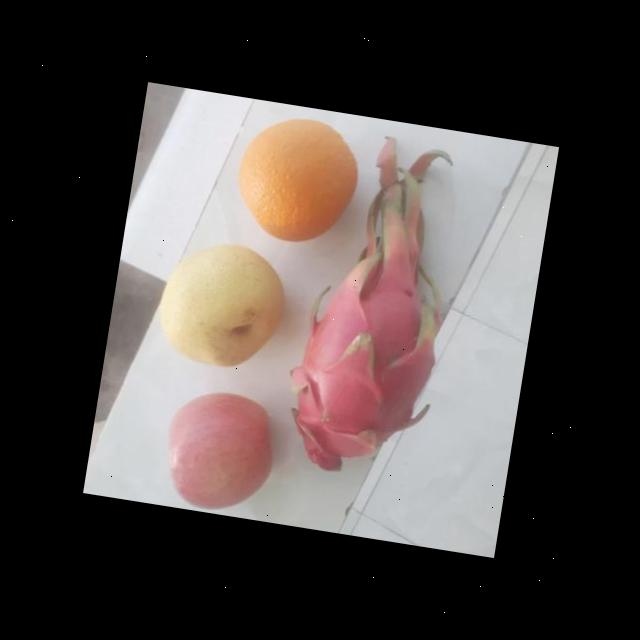apple: (153, 382, 280, 520)
orange: (226, 102, 364, 255)
pear: (152, 232, 292, 382)
